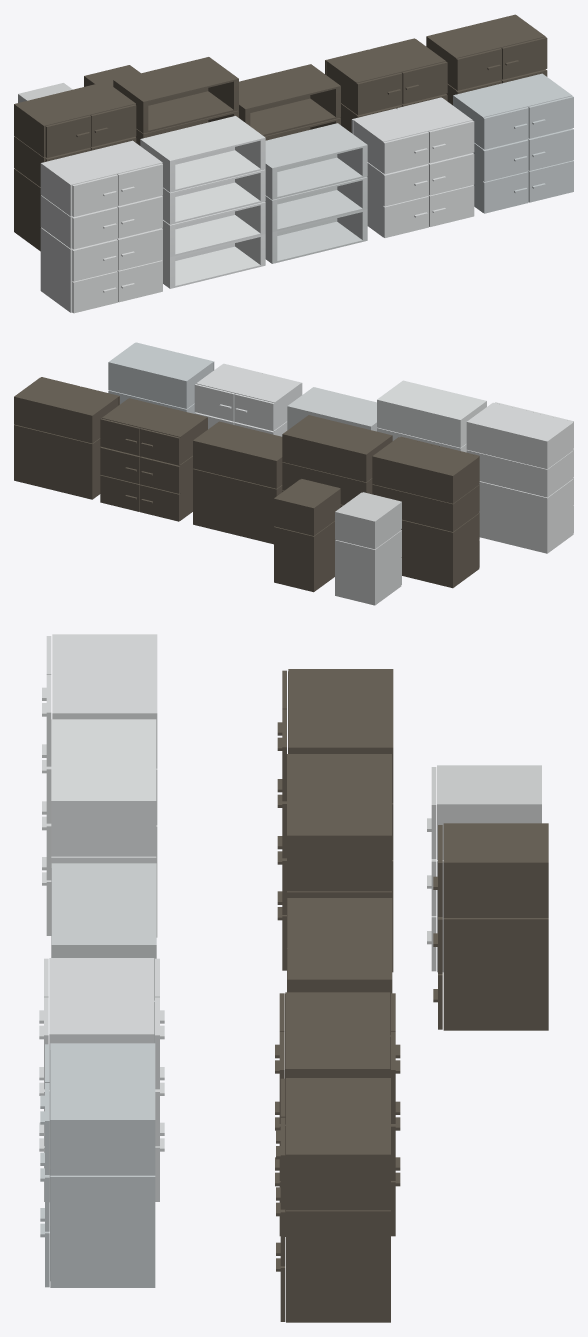
Rendered from skafs.fbx.
3 renders of one model, top to bottom at view 1: azimuth 30°, elevation 25°; view 2: azimuth 150°, elevation 25°; view 3: azimuth 270°, elevation 25°, orthographic. The views are drawn at different scales.
Visible parts, largest first — view 1: shkaf.018, shkaf.019, shkaf.021, shkaf.022, shkaf.020, shkaf.005, shkaf.002, shkaf.006, shkaf.010, shkaf.007, shkaf.009, shkaf.023; view 2: shkaf.018, shkaf.005, shkaf.002, shkaf.010, shkaf.007, shkaf.023, shkaf.006, shkaf.009, shkaf.021, shkaf.019, shkaf.022, shkaf.020; view 3: shkaf.022, shkaf.010, shkaf.009, shkaf.019, shkaf.006, shkaf.002, shkaf.021, shkaf.018, shkaf.005, shkaf.020, shkaf.007, shkaf.023.
Part boxes in pixels (x1,y1,x2,y2): shkaf.018: (40, 140, 162, 313); shkaf.019: (140, 116, 265, 288); shkaf.021: (351, 97, 474, 237); shkaf.022: (453, 73, 573, 213); shkaf.020: (265, 123, 367, 263); shkaf.005: (14, 81, 136, 251); shkaf.002: (325, 38, 447, 132); shkaf.006: (113, 57, 238, 145); shkaf.010: (426, 14, 547, 105); shkaf.007: (238, 64, 340, 140); shkaf.009: (84, 65, 140, 86); shkaf.023: (18, 83, 72, 102); shkaf.018: (466, 402, 573, 553); shkaf.005: (372, 436, 479, 588); shkaf.002: (100, 398, 207, 521); shkaf.010: (14, 377, 119, 499); shkaf.007: (193, 421, 282, 544); shkaf.023: (335, 492, 401, 605); shkaf.006: (282, 415, 392, 507); shkaf.009: (274, 479, 340, 592); shkaf.021: (194, 363, 302, 436); shkaf.019: (377, 380, 486, 452); shkaf.022: (108, 342, 214, 413); shkaf.020: (287, 387, 376, 431); shkaf.022: (40, 1043, 155, 1287); shkaf.010: (276, 1078, 390, 1322); shkaf.009: (433, 823, 548, 1030); shkaf.019: (51, 719, 156, 867); shkaf.006: (287, 754, 391, 991); shkaf.002: (275, 992, 400, 1236); shkaf.021: (39, 958, 164, 1201); shkaf.018: (42, 634, 157, 937); shkaf.005: (277, 669, 393, 972); shkaf.020: (51, 863, 156, 1043); shkaf.007: (287, 898, 392, 1077); shkaf.023: (427, 765, 541, 972).
Bounding box in the file's own units: 749 × 169 × 348.
